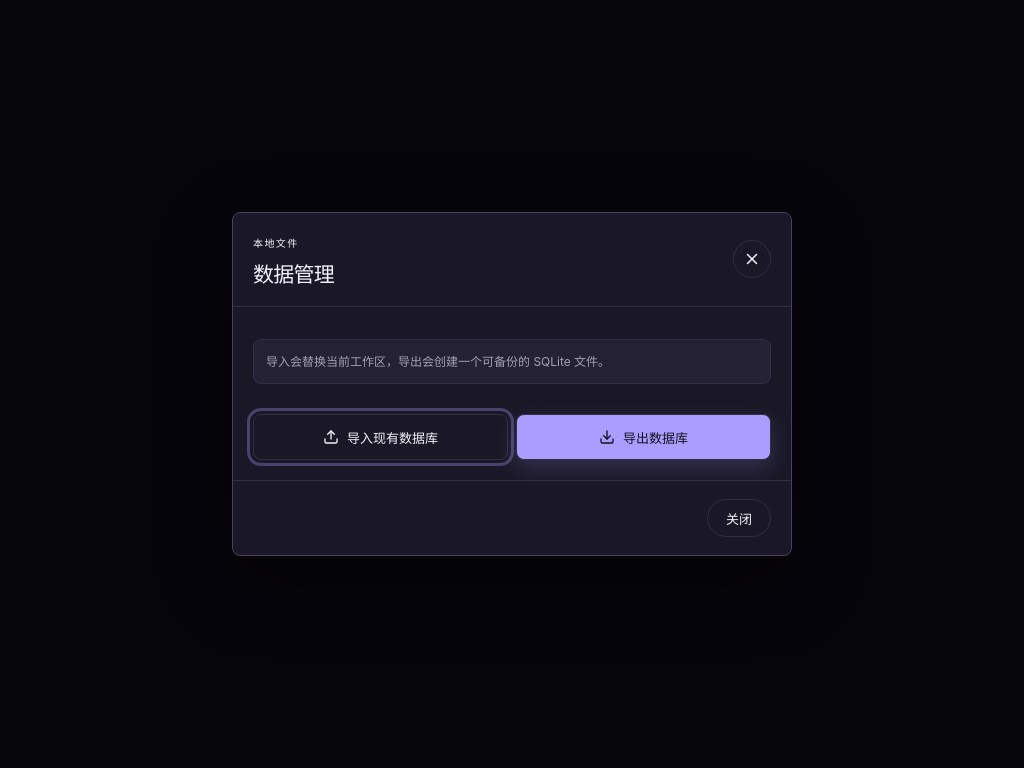
Scenario: DataManagementDialog › reloads after a successful import and reports the result
Click the button "导入现有数据库" at (380, 437), box [253, 414, 508, 460]
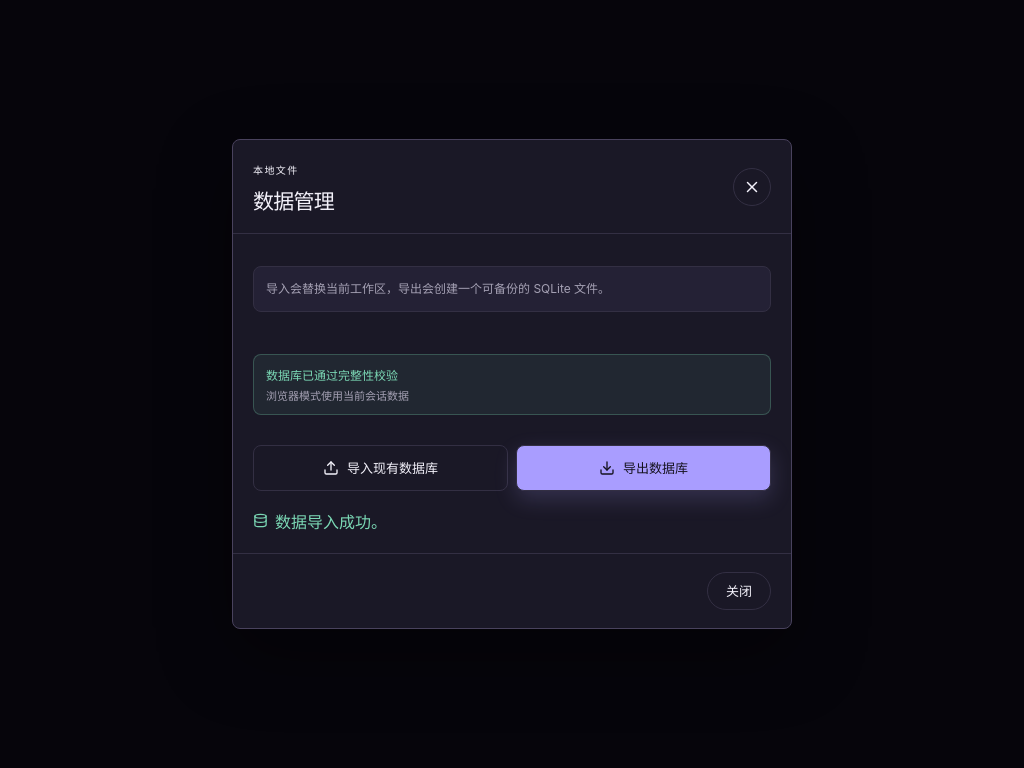
Expected: the message shows "数据导入成功", [275, 512, 387, 532]
